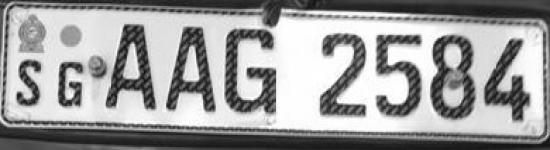2: (316, 30, 372, 121)
4: (481, 33, 536, 124)
5: (373, 29, 424, 119)
8: (425, 29, 480, 124)
A: (162, 22, 221, 120), (99, 22, 160, 114)
G: (220, 24, 285, 118)
O: (55, 58, 88, 111)
S: (13, 55, 47, 108)
